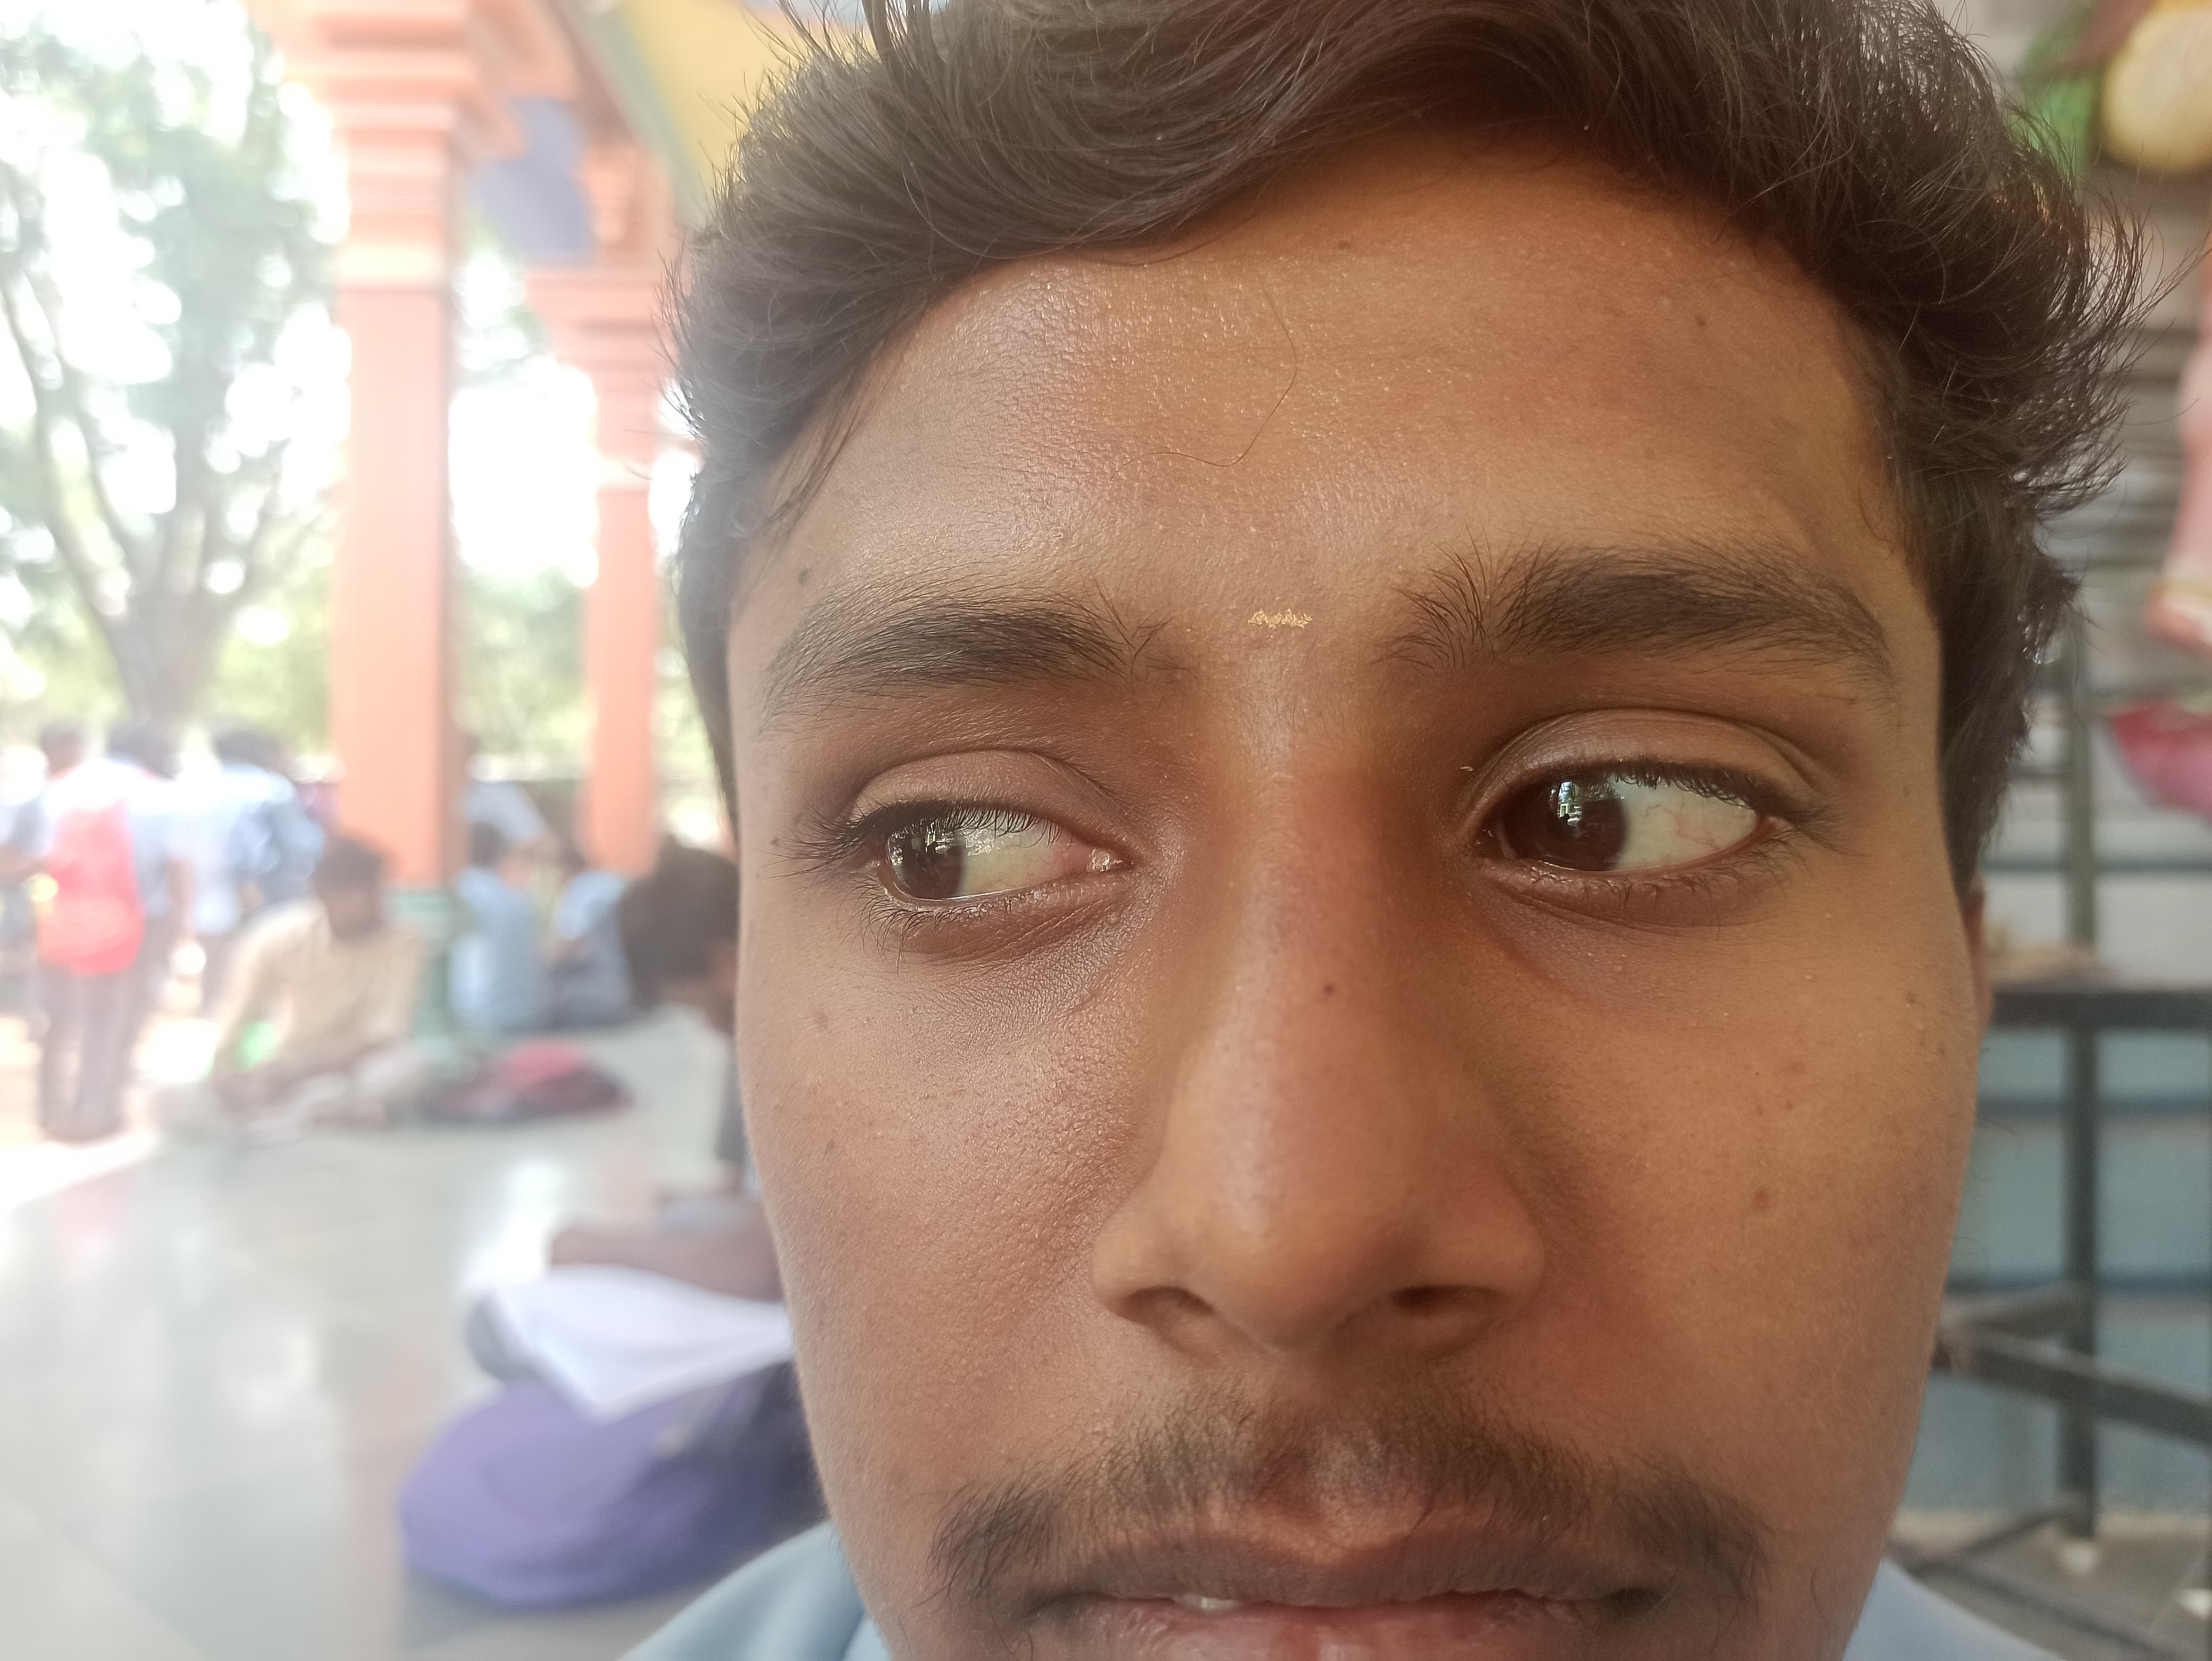EYE RIGHT: (569, 489, 1355, 1082), (1394, 483, 2160, 1085)
